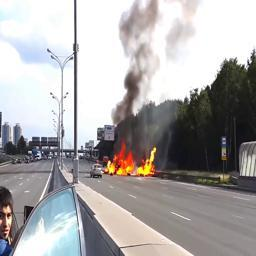fire: (106, 140, 157, 175)
